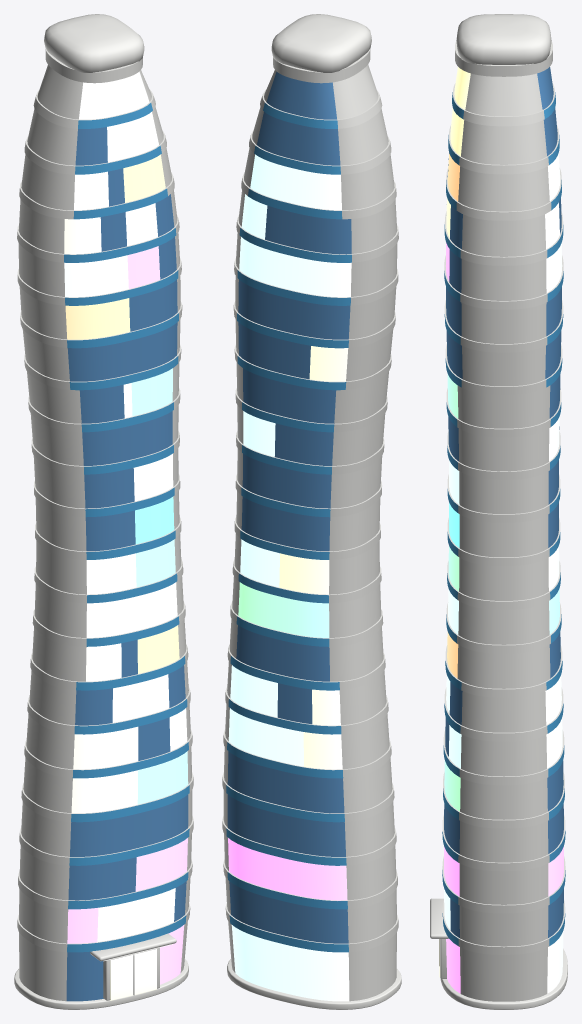
Rendered from arranha_ceu_gema_branca.glb.
3 views of the same model, side by side, from view 1: azimuth 30°, elevation 25°; view 2: azimuth 150°, elevation 25°; view 3: azimuth 270°, elevation 25° (orthographic).
Visible parts, largest first — view 1: arranha_ceu_gema_branca; view 2: arranha_ceu_gema_branca; view 3: arranha_ceu_gema_branca.
Part boxes in pixels (left/top/right/bottom): arranha_ceu_gema_branca: left=14, top=14, right=193, bottom=1009; arranha_ceu_gema_branca: left=222, top=14, right=401, bottom=1009; arranha_ceu_gema_branca: left=430, top=14, right=567, bottom=1009.
Size of the model in its own units: 12.43 by 70.6 by 9.35.
9 materials, 1 textured.
